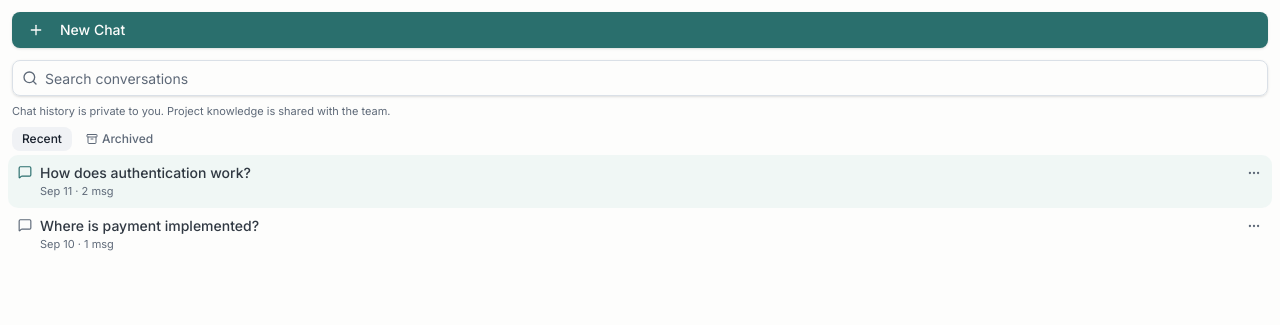
Test: ConversationList › surfaces rename and search errors
The image size is (1280, 325).
Expected: the text "How does authentication work?" is shown, [40, 164, 251, 181]
Press the mouse on the 1st button named "Actions" at (1254, 173), box [1242, 161, 1266, 185]
Click the 1st button named "Actions" at (1254, 173), box [1242, 161, 1266, 185]
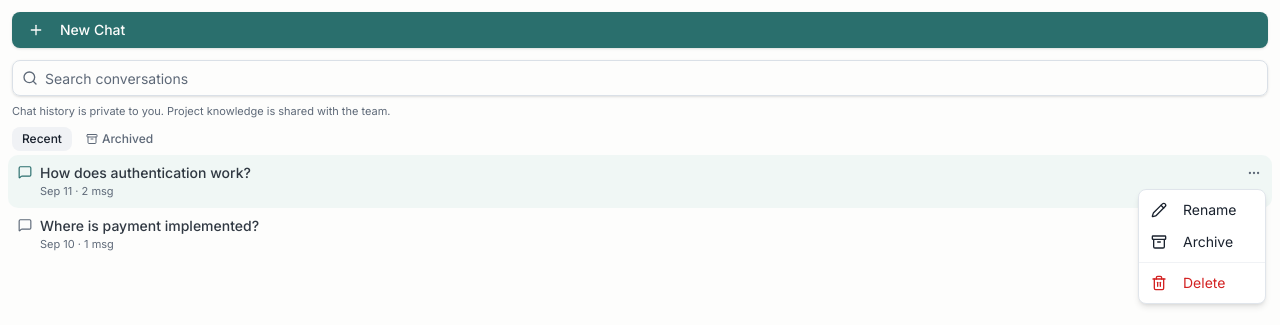
Click the menu item "Rename" at (1194, 210), box [1151, 201, 1236, 218]
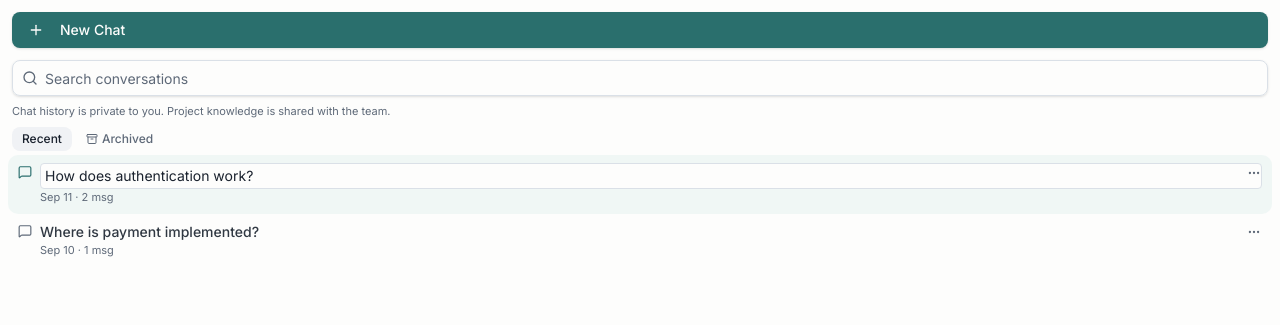
Replace the text in the field showing "How does authentication work?" with "Nope" at (651, 176), box [40, 163, 1262, 189]
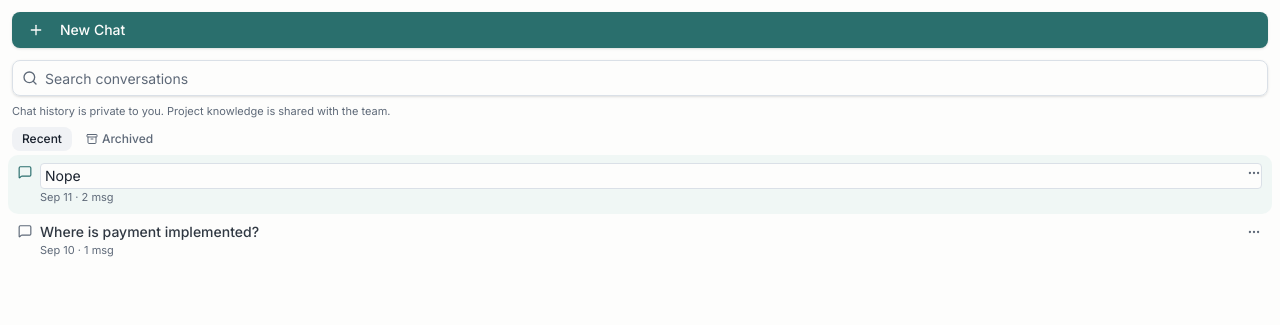
Leave the field showing "How does authentication work?", box [40, 163, 1262, 189]
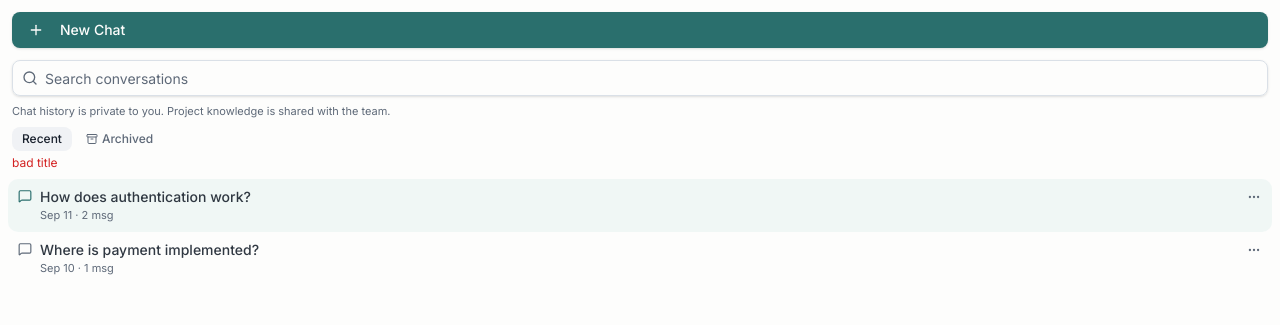
Expected: the text "bad title" is shown, [12, 155, 58, 170]
Type "payment" into the field with placeholder "Search conversations" at (640, 78), box [12, 60, 1268, 96]
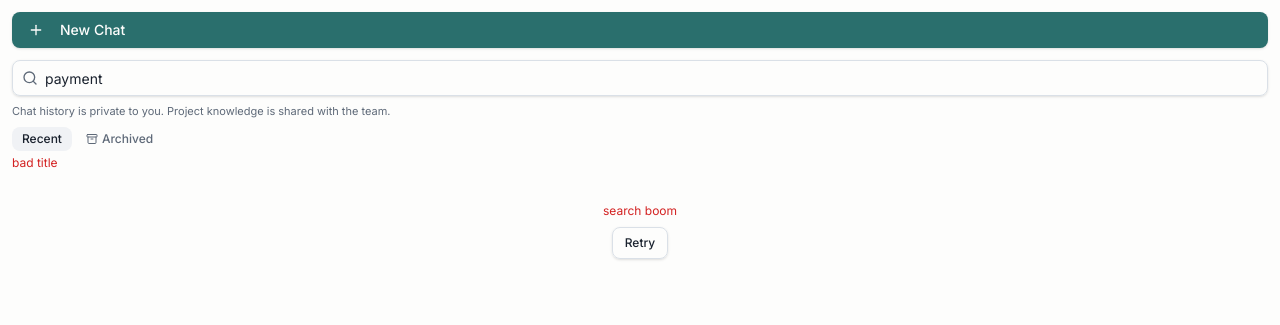
Expected: the text "search boom" is shown, [603, 203, 677, 218]
